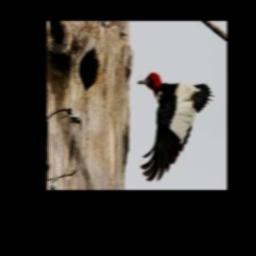Woodpecker: (138, 73, 215, 181)
